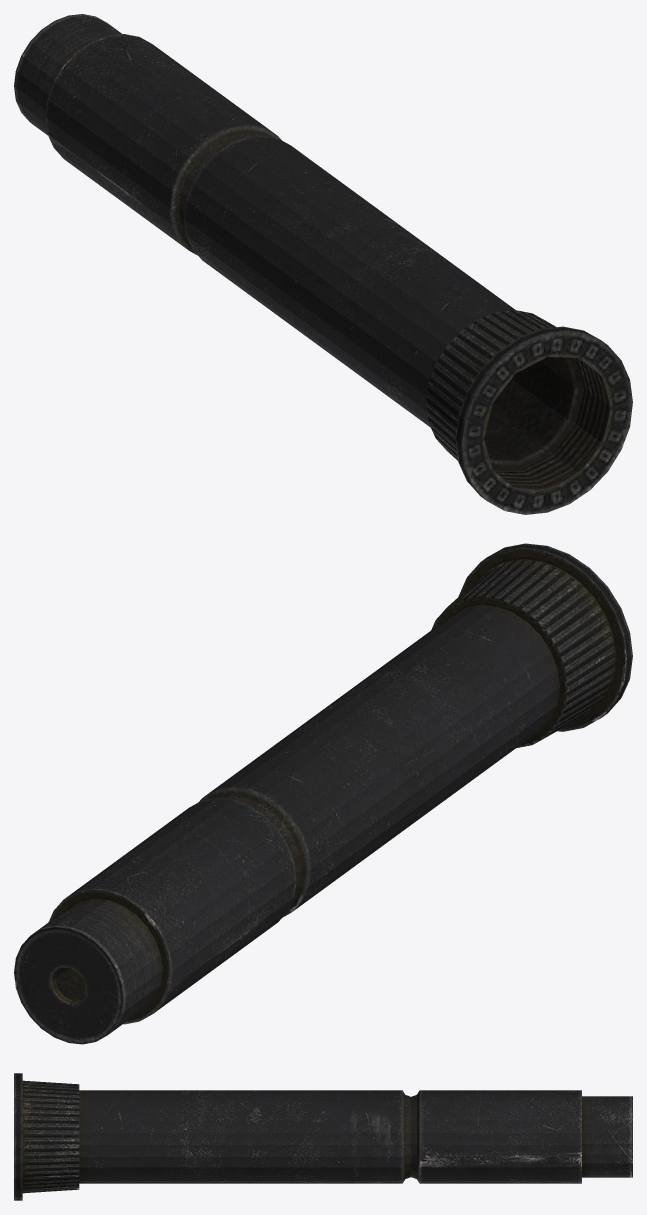
3 renders of one model, top to bottom at view 1: azimuth 30°, elevation 25°; view 2: azimuth 150°, elevation 25°; view 3: azimuth 270°, elevation 25°, orthographic. The views are drawn at different scales.
Parts seen in each view (by area): view 1: TW_5a78830bc5856700137e4c90_PZ_Import; view 2: TW_5a78830bc5856700137e4c90_PZ_Import; view 3: TW_5a78830bc5856700137e4c90_PZ_Import.
Part boxes in pixels (x1,y1,x2,y2): TW_5a78830bc5856700137e4c90_PZ_Import: (14,14,632,514); TW_5a78830bc5856700137e4c90_PZ_Import: (14,543,632,1044); TW_5a78830bc5856700137e4c90_PZ_Import: (14,1073,632,1200).
Size of the model in its own units: 0.0208 by 0.1007 by 0.0208.
1 material, 1 textured.
